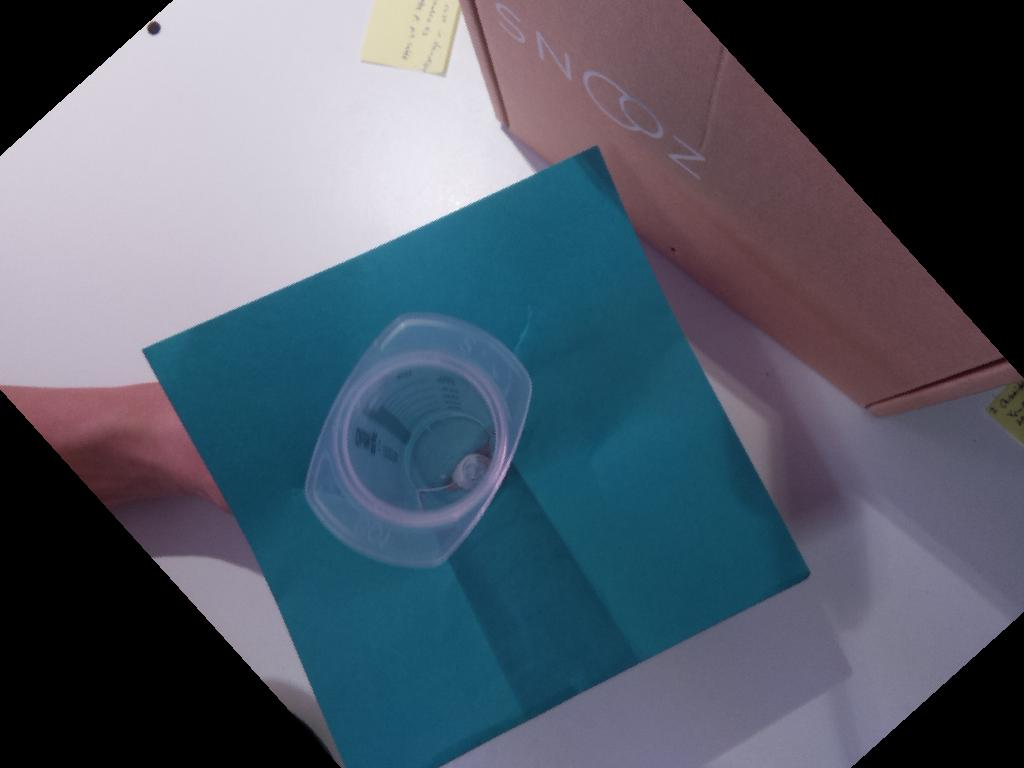clean: (302, 311, 533, 569)
